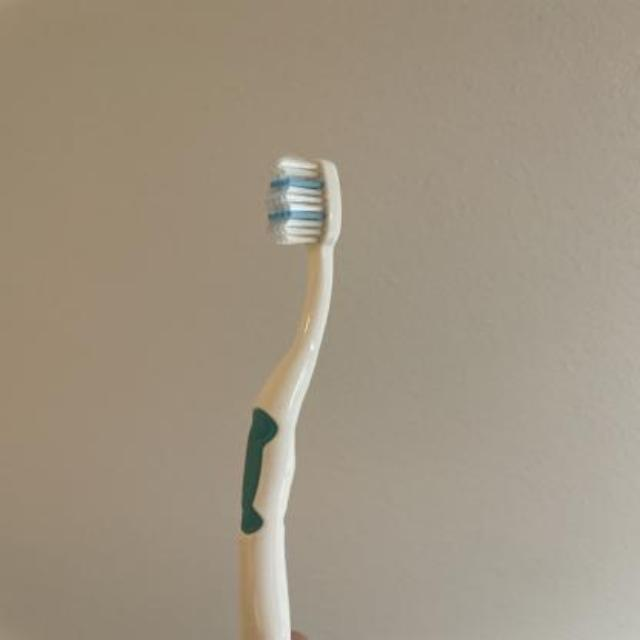toothbrush: (222, 145, 350, 640)
